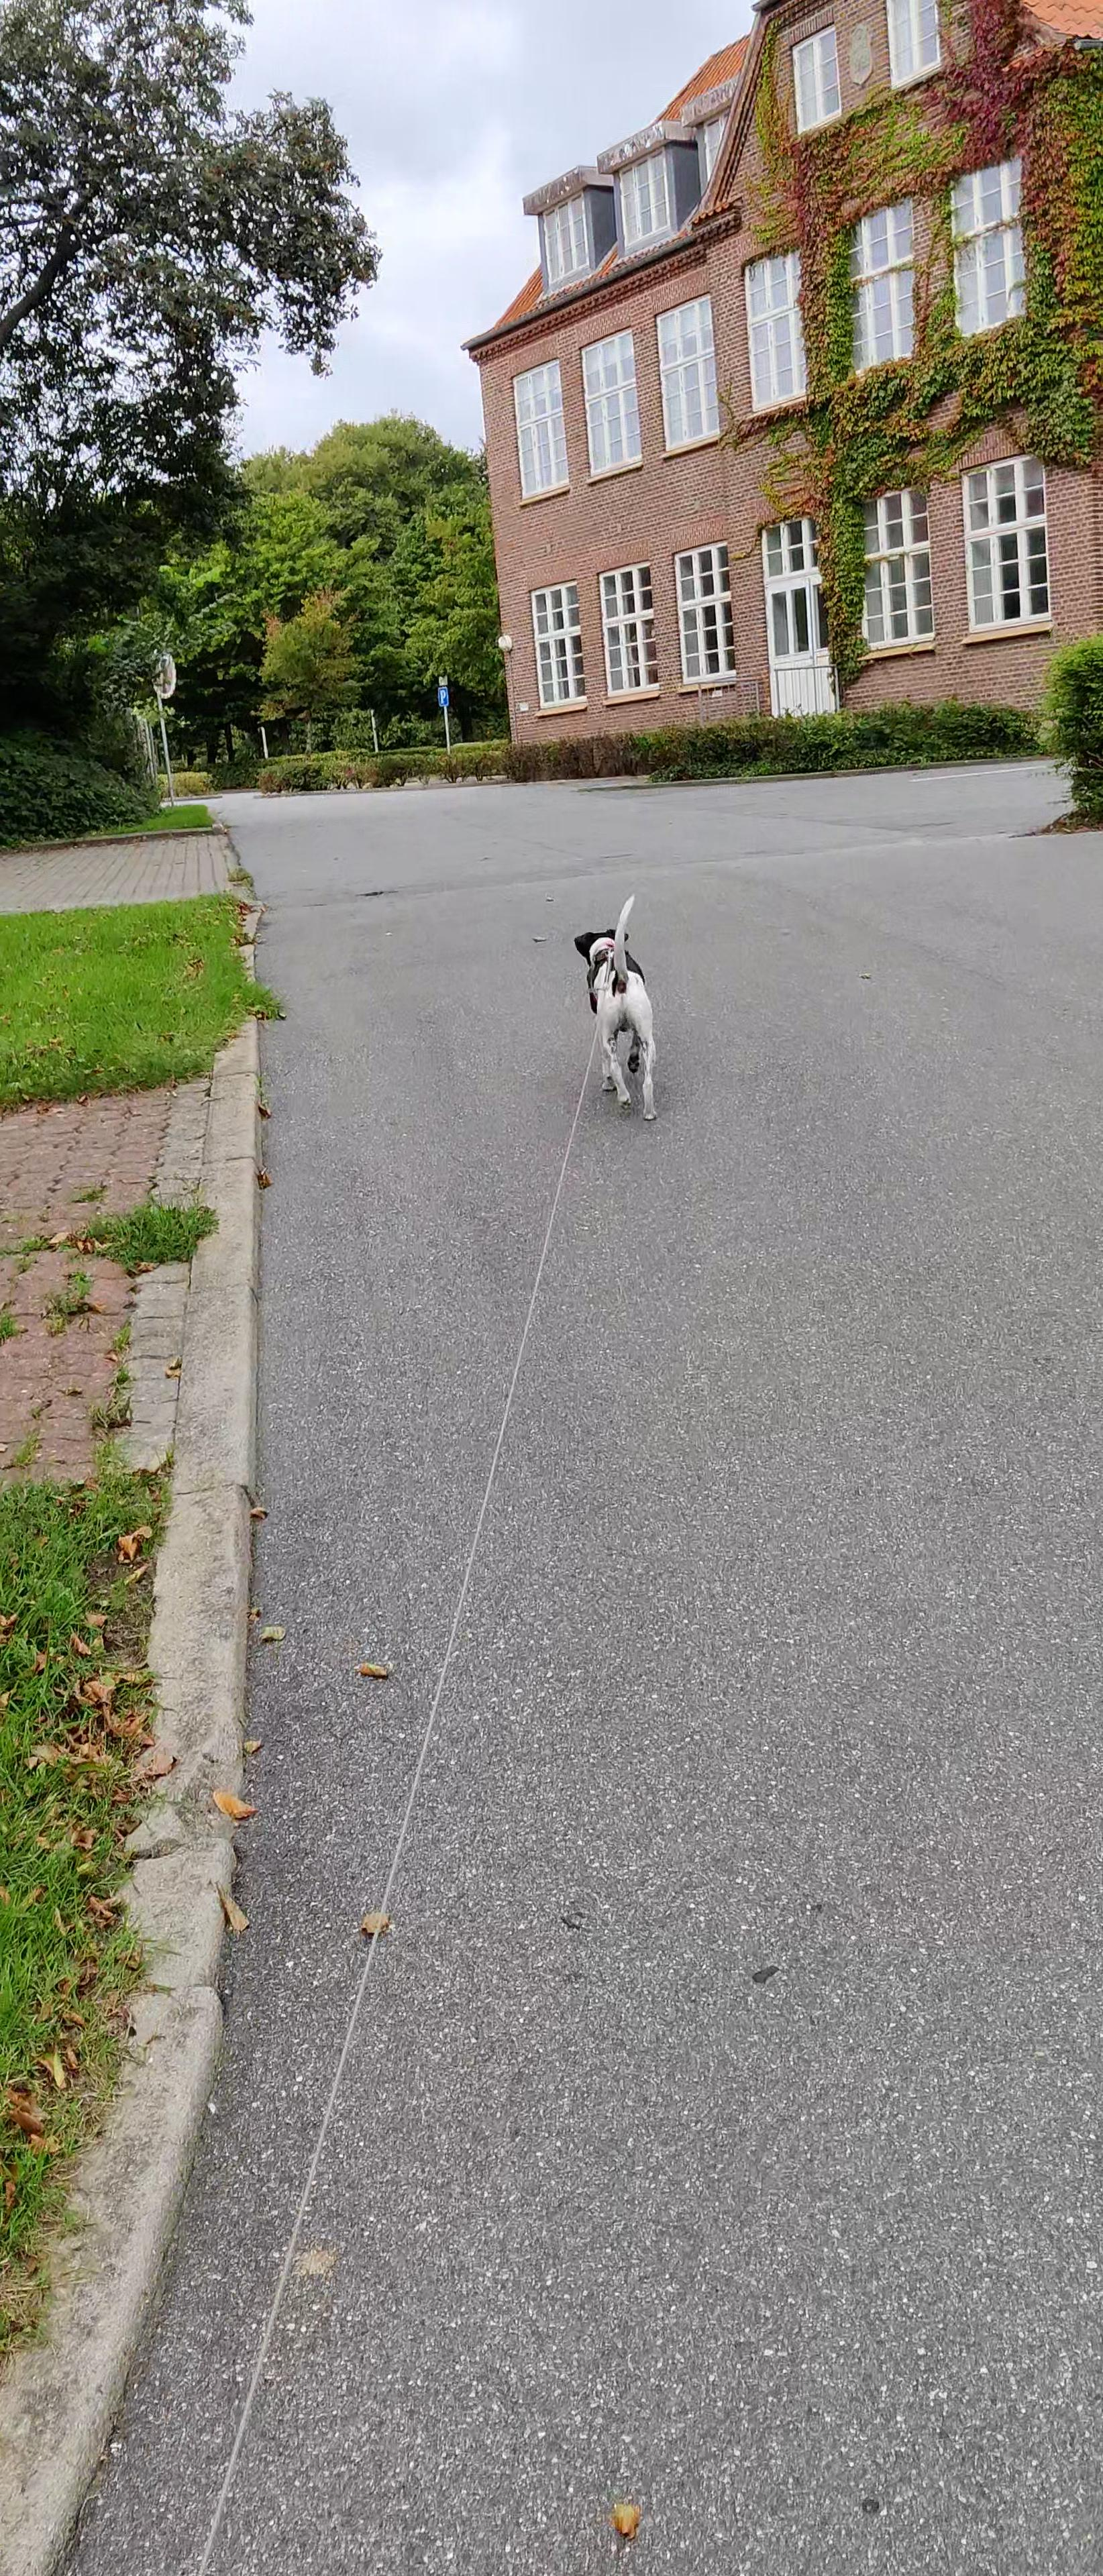Dog: (556, 882, 674, 1127)
